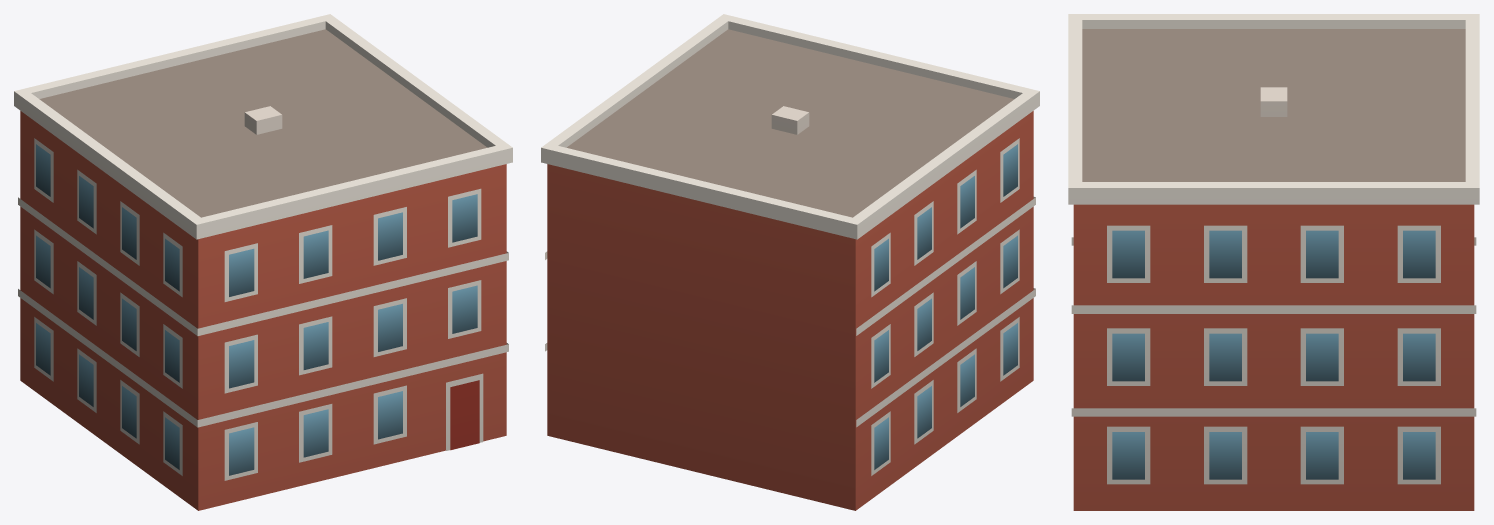
The model's file is tremont_n0_far.glb.
The picture shows the model from 3 angles, left to right: view 1: azimuth 30°, elevation 25°; view 2: azimuth 150°, elevation 25°; view 3: azimuth 270°, elevation 25°; orthographic projection. The views are drawn at different scales.
Visible parts, largest first — view 1: tremont_n0_far; view 2: tremont_n0_far; view 3: tremont_n0_far.
Boxes of the visible parts, left/top/right/bottom form: tremont_n0_far: left=14, top=14, right=512, bottom=510; tremont_n0_far: left=541, top=14, right=1039, bottom=510; tremont_n0_far: left=1068, top=14, right=1479, bottom=510.
Bounding box in the file's own units: 12.32 × 10.97 × 12.32.
Materials: 1 (1 with a texture image).
